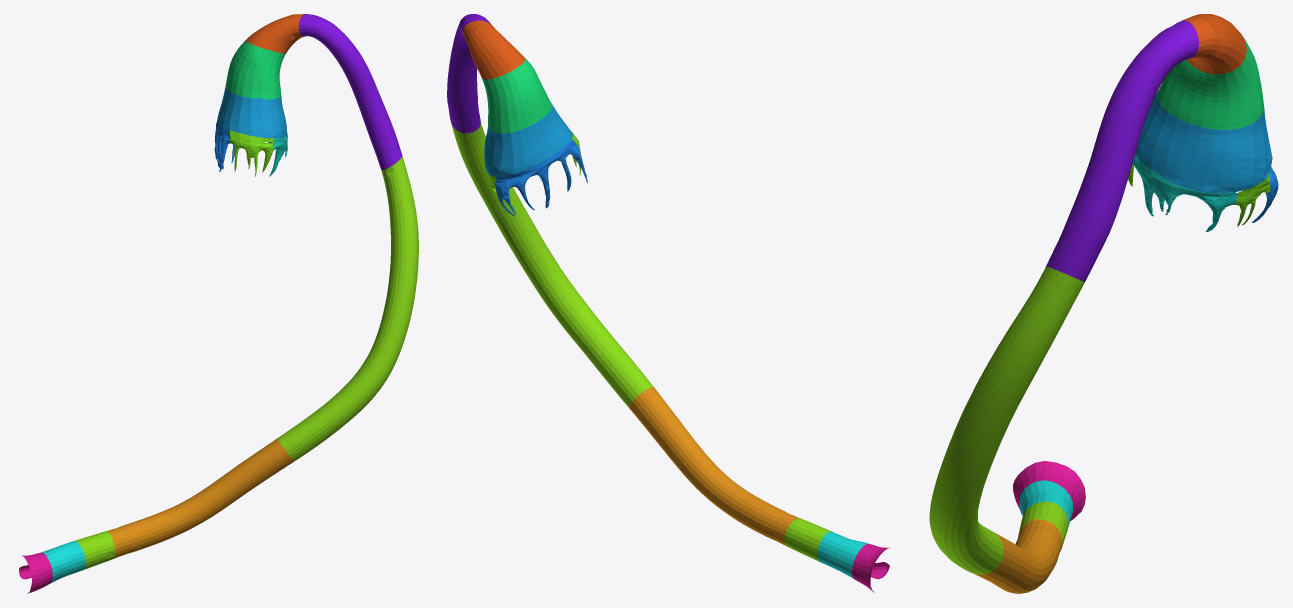
File: fallopian-tube-female-left-upenn.glb
3 renders of one model, left to right at view 1: azimuth 30°, elevation 25°; view 2: azimuth 150°, elevation 25°; view 3: azimuth 270°, elevation 25°, orthographic. The views are drawn at different scales.
Parts seen in each view (by area): view 1: world; view 2: world; view 3: world.
Boxes of the visible parts, left/top/right/bottom form: world: left=19, top=14, right=418, bottom=593; world: left=447, top=14, right=889, bottom=592; world: left=929, top=14, right=1278, bottom=593.
Bounding box in the file's own units: 0.0384 × 0.0442 × 0.0185.
